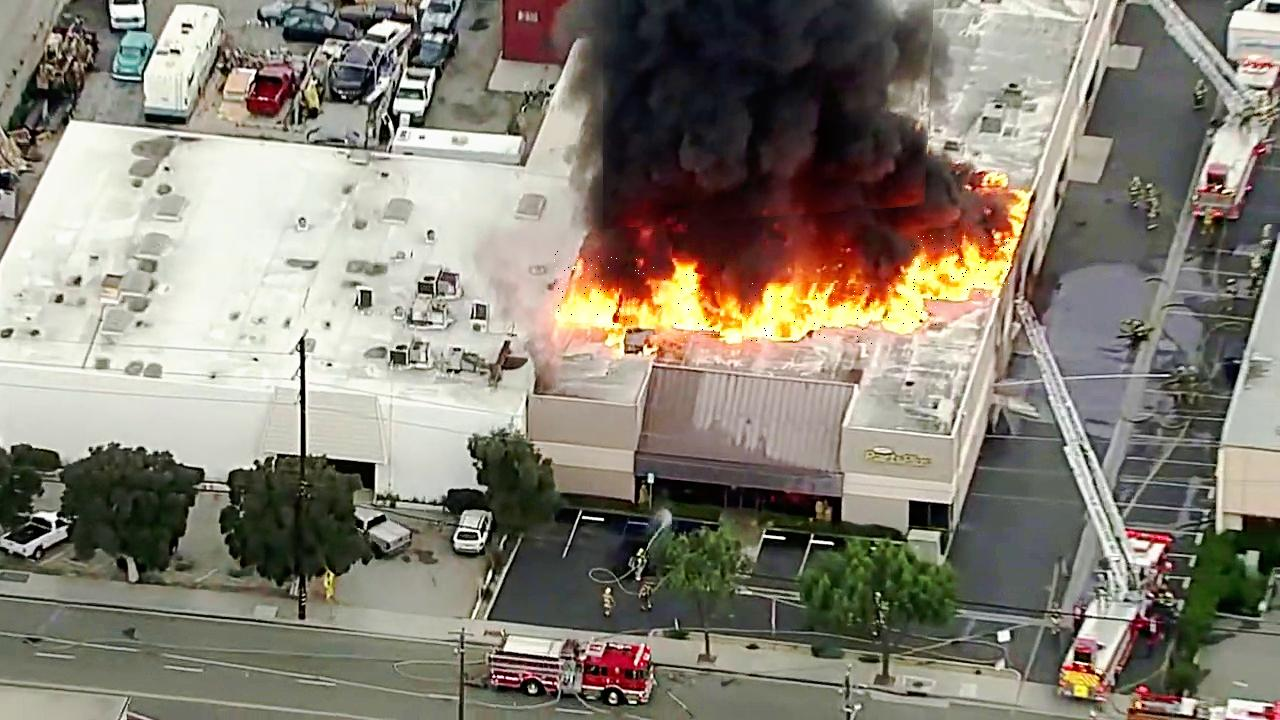fire: (743, 284, 874, 346), (625, 259, 720, 338), (911, 235, 1010, 298), (554, 252, 619, 326), (889, 275, 939, 326)
smoke: (604, 0, 938, 230)
